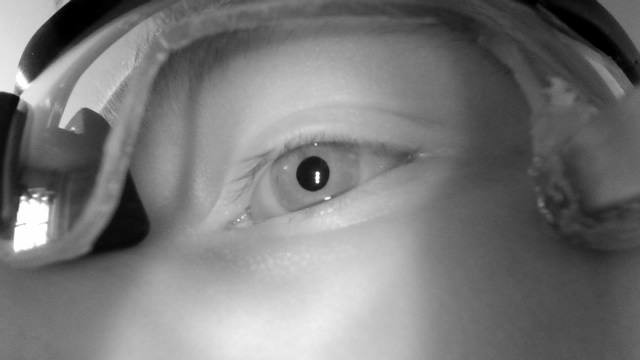pupil: (295, 155, 331, 193)
